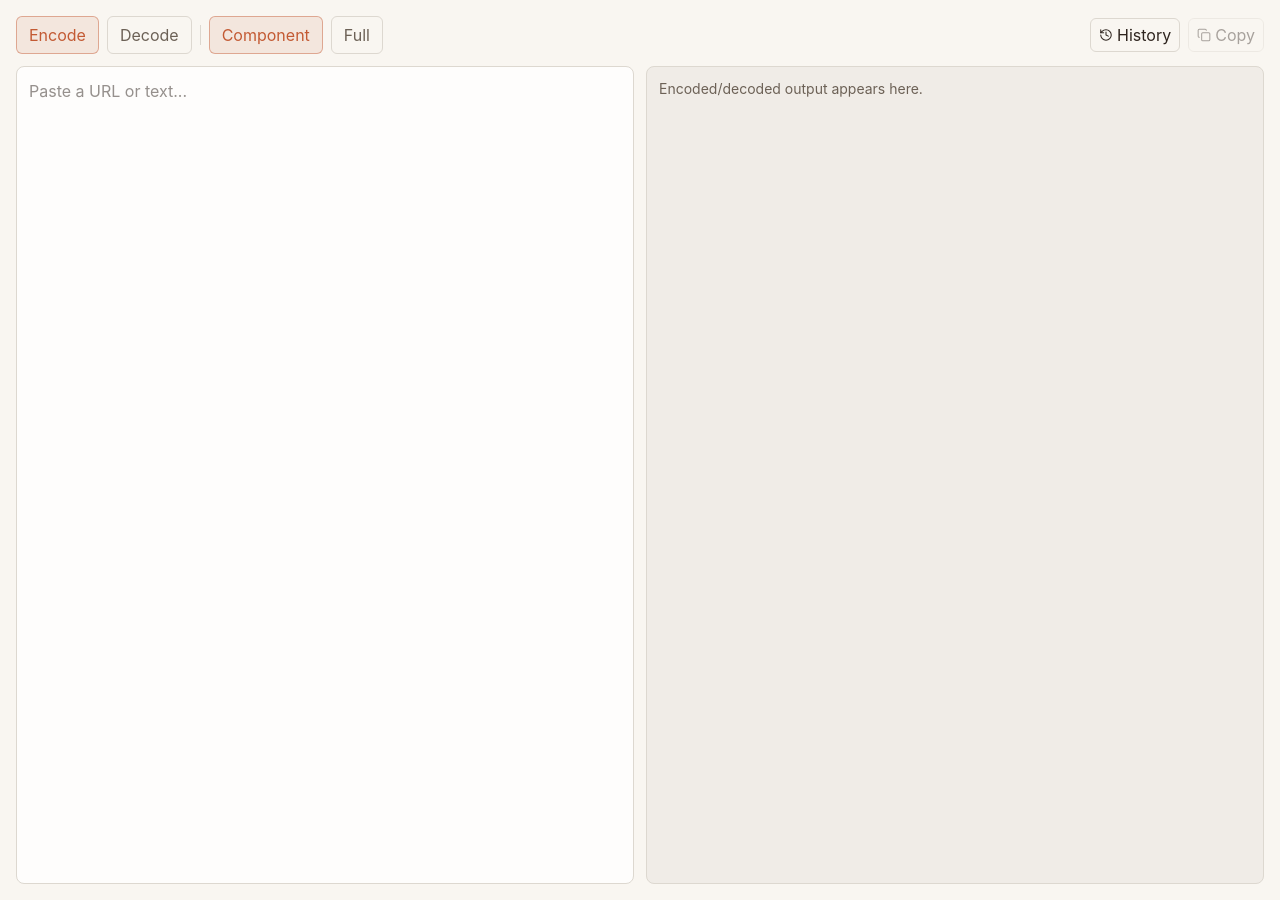
Test: UrlTool › encodes a component live
In the text box named "URL input": [325, 475] box x1=16 y1=66 x2=634 y2=884, type "a b"
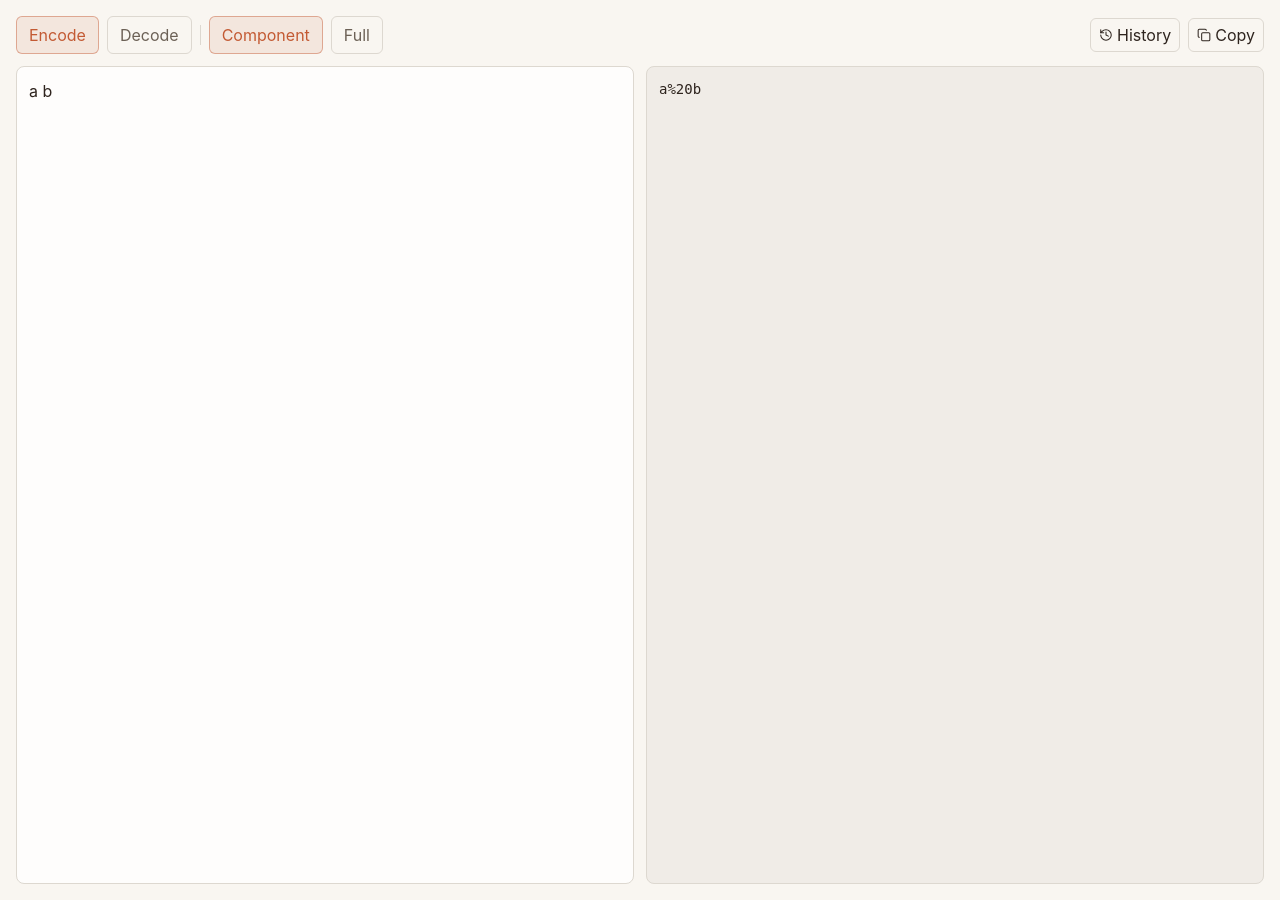
Expected: the text named "Output" reads "a%20b", x1=659 y1=81 x2=701 y2=97
